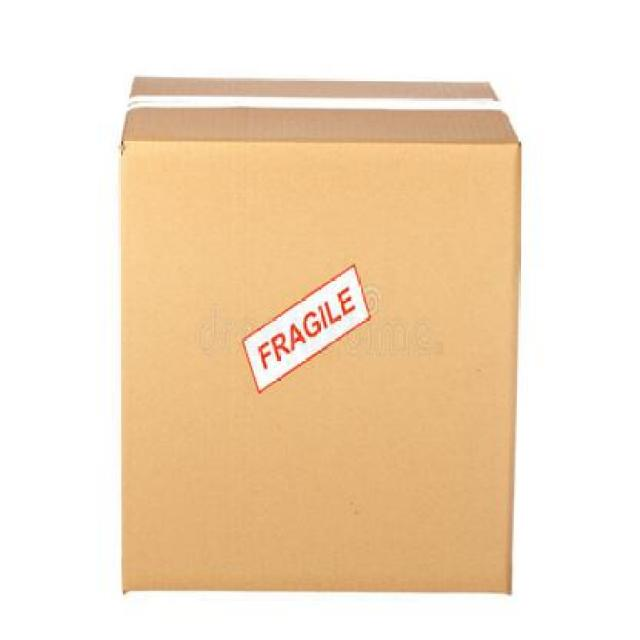normal: (111, 72, 529, 608)
